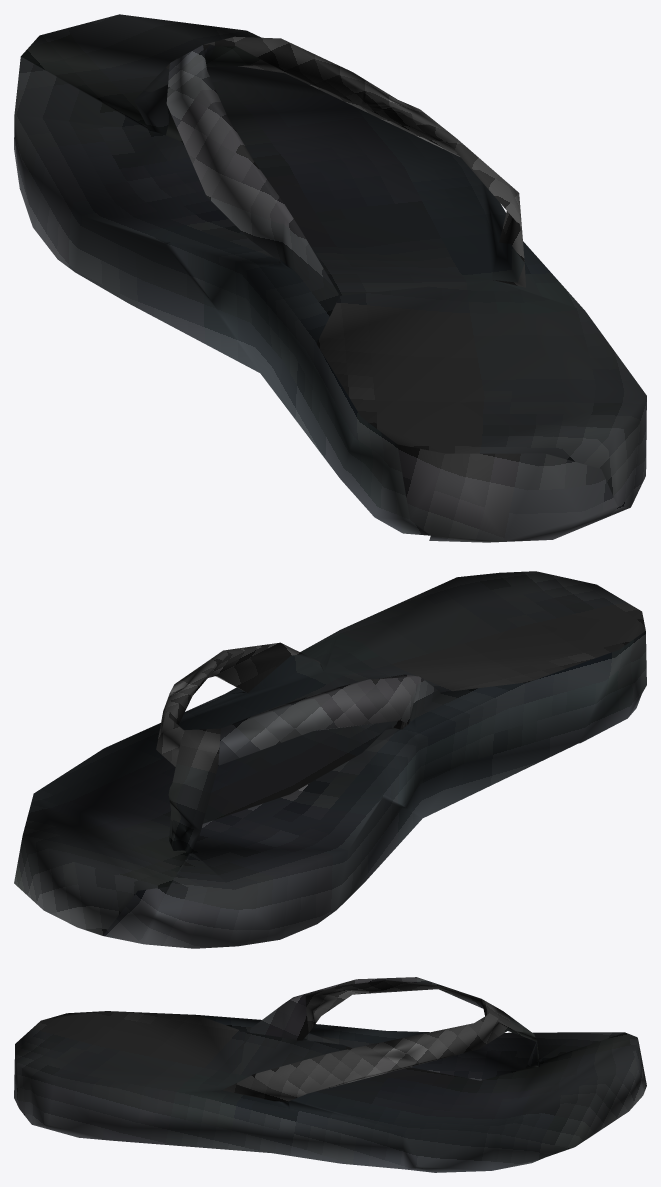
The model's file is Reef_Star_Cushion_Flipflops_Size_8_Black-low.glb.
3 renders of one model, top to bottom at view 1: azimuth 30°, elevation 25°; view 2: azimuth 150°, elevation 25°; view 3: azimuth 270°, elevation 25°, orthographic. The views are drawn at different scales.
Parts seen in each view (by area): view 1: Reef_Star_Cushion_Flipflops_Size_8_Black; view 2: Reef_Star_Cushion_Flipflops_Size_8_Black; view 3: Reef_Star_Cushion_Flipflops_Size_8_Black.
Boxes of the visible parts, box(x1,y1,x2,y2) form: Reef_Star_Cushion_Flipflops_Size_8_Black: box(14, 14, 646, 542); Reef_Star_Cushion_Flipflops_Size_8_Black: box(14, 571, 646, 948); Reef_Star_Cushion_Flipflops_Size_8_Black: box(14, 977, 646, 1172).
Size of the model in its own units: 0.1031 by 0.0546 by 0.2573.
Materials: 1 (1 with a texture image).
